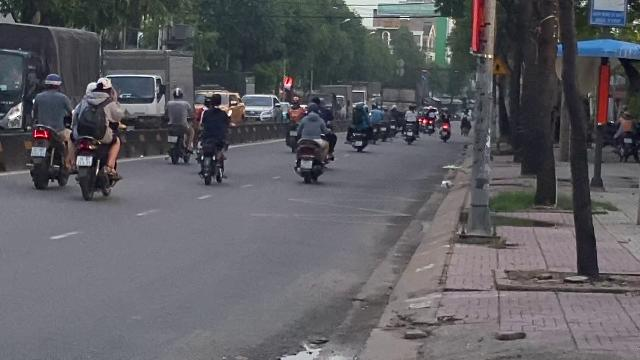helmet: (42, 73, 62, 91), (95, 78, 112, 94), (84, 81, 96, 95)
licenseplate: (76, 155, 92, 165), (30, 146, 46, 156)
motorcyclist: (68, 77, 124, 200), (27, 72, 73, 190)
